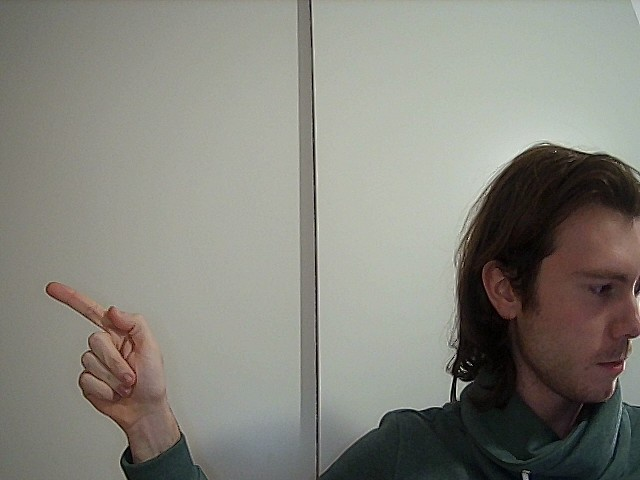g: (31, 260, 194, 439)
